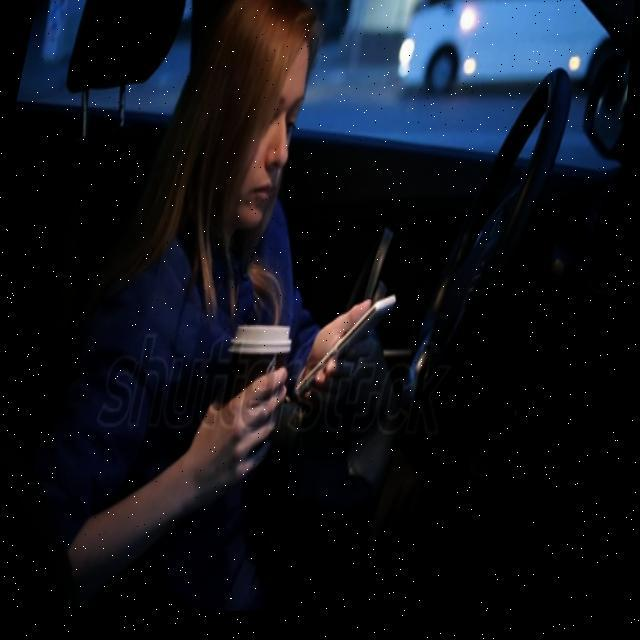Drinking: (212, 324, 304, 482)
PhoneCall: (298, 296, 406, 411)
